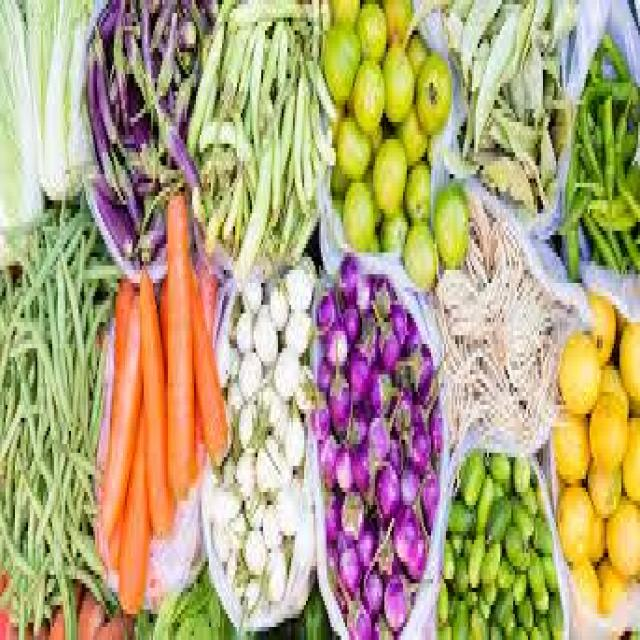organic waste: (20, 0, 90, 187), (460, 0, 537, 152), (0, 0, 41, 261), (99, 283, 140, 536), (30, 196, 93, 344), (0, 261, 56, 427), (138, 261, 170, 536), (164, 188, 192, 497), (468, 0, 520, 148), (188, 261, 224, 470), (22, 400, 92, 500), (61, 261, 99, 444), (106, 274, 129, 570), (120, 387, 148, 614), (150, 557, 230, 636), (493, 270, 552, 374), (229, 122, 267, 274), (446, 348, 515, 431), (13, 313, 67, 418), (438, 266, 494, 362), (188, 8, 224, 156), (192, 252, 215, 479), (82, 35, 118, 178), (510, 335, 554, 440), (153, 104, 200, 200), (196, 113, 252, 187), (200, 143, 242, 240), (556, 479, 601, 566), (88, 165, 132, 252), (288, 74, 314, 218), (0, 409, 28, 536), (479, 152, 534, 214), (558, 327, 599, 409), (56, 509, 106, 575), (28, 500, 52, 636), (130, 113, 176, 183), (321, 17, 360, 96), (58, 248, 84, 366), (89, 13, 114, 135), (461, 5, 502, 78), (431, 174, 465, 261), (603, 492, 638, 575), (403, 0, 468, 44), (41, 366, 63, 496), (414, 48, 450, 126), (306, 74, 336, 165), (401, 213, 435, 292), (220, 0, 309, 30), (371, 126, 403, 209), (261, 9, 291, 96), (340, 174, 375, 248), (381, 35, 414, 113), (487, 214, 521, 288), (498, 109, 539, 170), (586, 396, 623, 462), (347, 322, 375, 409), (466, 192, 491, 288), (552, 409, 586, 479), (290, 574, 328, 636), (334, 109, 368, 178), (586, 279, 614, 361), (351, 56, 382, 130), (222, 26, 248, 113), (0, 505, 34, 570), (259, 92, 278, 205), (586, 449, 617, 518), (2, 566, 32, 636), (256, 427, 287, 492), (168, 65, 196, 135), (392, 488, 418, 562), (280, 65, 295, 192), (381, 570, 414, 627), (340, 574, 370, 636), (50, 574, 80, 636), (90, 0, 132, 44), (618, 313, 638, 405), (239, 26, 259, 118), (478, 87, 508, 148), (153, 9, 174, 96), (372, 453, 398, 522), (355, 0, 386, 57), (328, 353, 349, 435), (401, 339, 433, 392), (372, 305, 398, 370), (595, 353, 625, 409), (618, 409, 638, 492), (521, 31, 541, 113), (595, 553, 623, 609), (398, 414, 428, 466), (272, 340, 298, 400), (483, 574, 508, 636), (276, 474, 301, 536), (56, 557, 75, 636), (403, 156, 427, 218), (136, 0, 153, 87), (336, 248, 360, 309), (336, 536, 362, 592), (545, 0, 575, 48), (252, 296, 274, 361), (484, 488, 509, 544), (398, 105, 423, 161), (338, 483, 362, 540), (403, 26, 427, 83), (235, 562, 261, 614), (571, 549, 595, 605), (394, 453, 418, 509), (282, 261, 310, 309), (403, 518, 425, 579), (306, 370, 327, 431), (502, 518, 528, 566), (506, 70, 528, 126), (211, 514, 233, 570), (237, 392, 259, 448), (522, 0, 547, 48), (76, 588, 101, 636), (459, 448, 480, 505), (369, 362, 392, 414), (95, 605, 133, 636), (237, 348, 259, 401), (416, 457, 435, 518), (321, 318, 345, 366), (235, 522, 261, 566), (537, 118, 556, 178), (282, 305, 308, 348), (345, 396, 368, 444), (466, 35, 489, 83), (155, 266, 166, 366), (233, 444, 258, 488), (328, 122, 346, 183), (263, 544, 284, 596), (286, 392, 300, 470), (183, 0, 214, 35), (549, 92, 571, 140), (368, 400, 388, 452), (278, 179, 293, 248), (254, 379, 278, 422), (314, 283, 332, 340), (82, 252, 121, 278), (73, 226, 84, 318), (259, 492, 280, 540), (476, 470, 491, 536), (375, 518, 394, 570), (379, 213, 407, 248), (478, 536, 498, 584), (349, 440, 371, 483), (174, 13, 192, 65), (207, 483, 237, 514), (32, 353, 45, 422), (362, 570, 382, 614), (356, 266, 374, 314), (266, 278, 284, 326), (418, 366, 438, 409), (336, 296, 358, 335), (426, 396, 440, 457), (444, 501, 472, 531), (388, 296, 407, 340), (468, 532, 484, 584), (324, 540, 340, 592), (509, 453, 530, 492), (511, 492, 532, 531), (233, 305, 252, 348), (371, 270, 388, 318), (319, 431, 336, 479), (226, 505, 244, 549), (392, 383, 412, 422), (323, 484, 338, 536), (336, 436, 351, 488), (243, 483, 263, 522), (546, 584, 562, 632), (356, 527, 375, 566), (526, 549, 543, 592), (134, 605, 157, 636), (448, 592, 464, 636), (532, 514, 550, 553), (438, 536, 454, 579), (226, 370, 239, 422), (515, 592, 532, 631), (444, 0, 461, 39), (483, 453, 508, 479), (401, 318, 420, 352), (392, 344, 408, 383), (298, 357, 308, 418), (528, 605, 547, 636), (82, 205, 95, 248), (467, 605, 485, 636), (330, 0, 355, 22), (452, 553, 466, 592), (541, 48, 558, 78), (532, 470, 543, 510), (437, 575, 448, 614), (316, 353, 330, 383), (366, 122, 380, 152), (541, 74, 551, 113), (512, 562, 522, 600), (532, 579, 546, 601), (520, 483, 534, 505), (511, 618, 528, 636), (438, 618, 452, 636), (371, 614, 390, 627), (448, 531, 459, 553)
